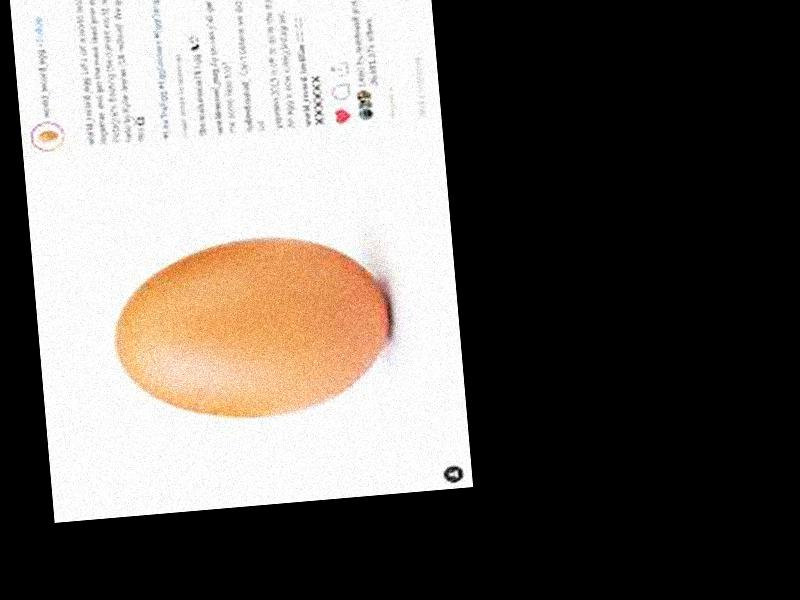Eggs: (109, 228, 393, 428)
